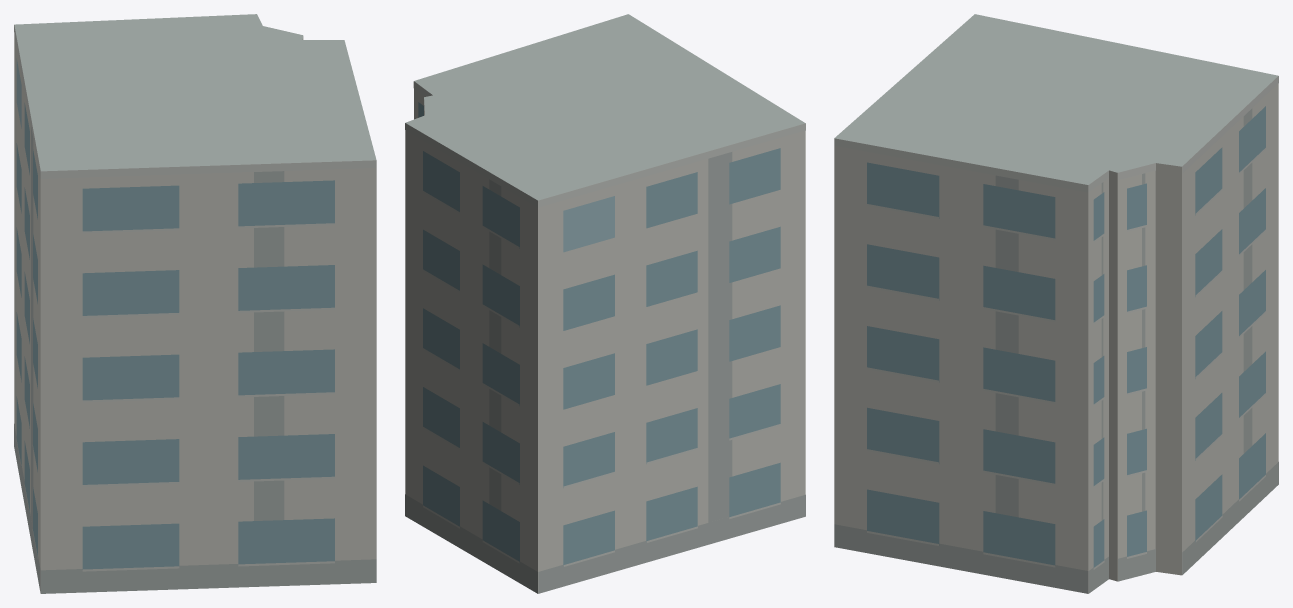
Rendered from survey-upis-32569845.glb.
3 views of the same model, side by side, from view 1: azimuth 30°, elevation 25°; view 2: azimuth 150°, elevation 25°; view 3: azimuth 270°, elevation 25° (orthographic). The views are drawn at different scales.
Visible parts, largest first — view 1: survey-upis-32569845.tmp; view 2: survey-upis-32569845.tmp; view 3: survey-upis-32569845.tmp.
Part boxes in pixels (left/top/right/bottom): survey-upis-32569845.tmp: left=14, top=14, right=376, bottom=593; survey-upis-32569845.tmp: left=405, top=14, right=805, bottom=593; survey-upis-32569845.tmp: left=834, top=14, right=1278, bottom=593.
Bounding box in the file's own units: 11.95 × 13.3 × 13.12.
